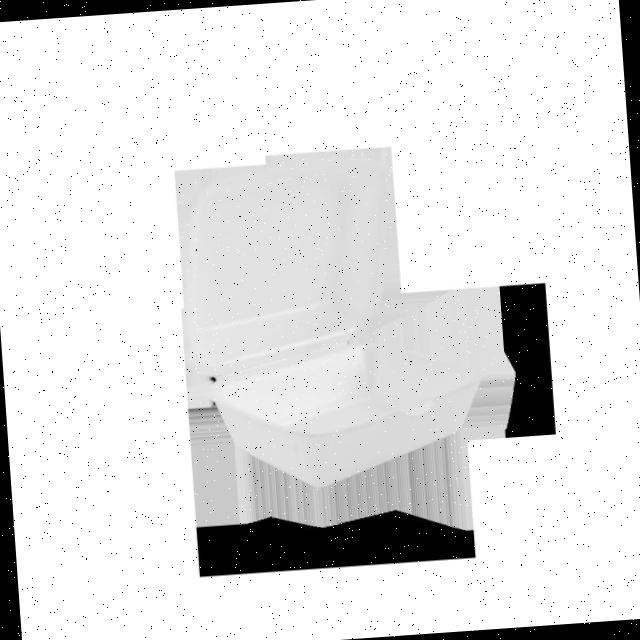styrofoam: (169, 138, 521, 550)
